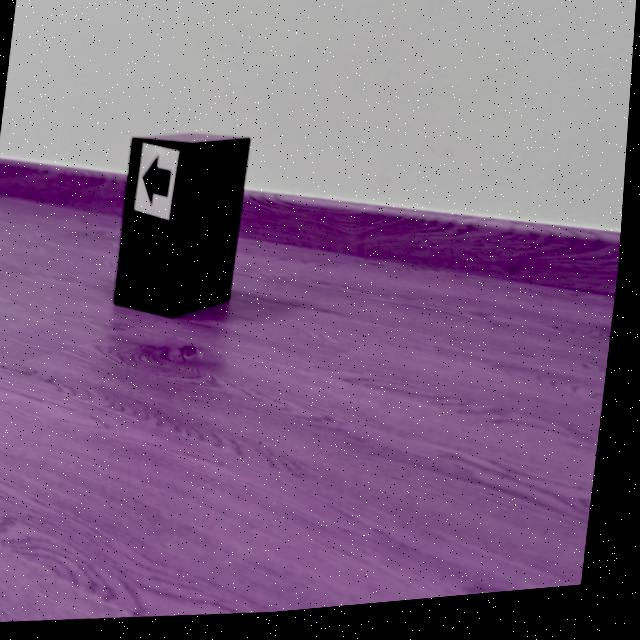LEFT: (145, 160, 174, 207)
